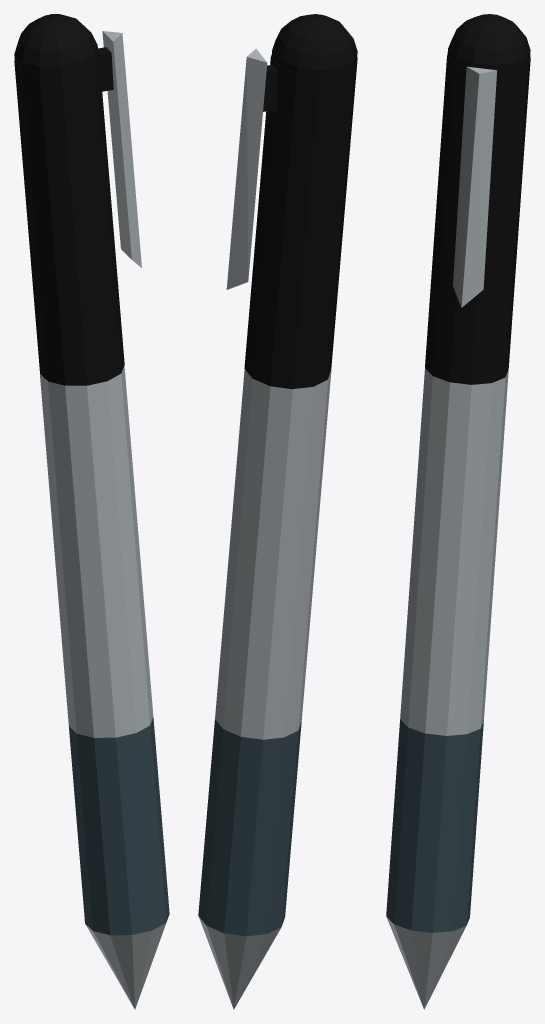
The picture shows the model from 3 angles, left to right: view 1: azimuth 30°, elevation 25°; view 2: azimuth 210°, elevation 25°; view 3: azimuth 270°, elevation 25°; orthographic projection. The views are drawn at different scales.
Visible parts, largest first — view 1: node_MeshObject-1289959552-PolyPaper17; view 2: node_MeshObject-1289959552-PolyPaper17; view 3: node_MeshObject-1289959552-PolyPaper17.
Boxes of the visible parts, x1,y1,x2,y2 form: node_MeshObject-1289959552-PolyPaper17: (14,14,169,1009); node_MeshObject-1289959552-PolyPaper17: (198,14,357,1009); node_MeshObject-1289959552-PolyPaper17: (386,14,530,1009).
Bounding box in the file's own units: 0.0307 × 0.2531 × 0.0342.
